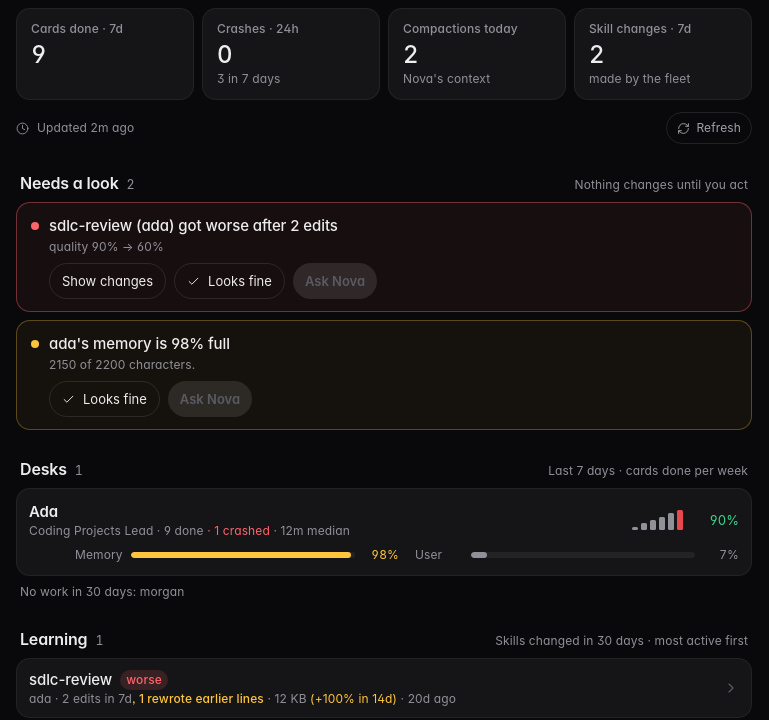
Test case: a skill that rewrites its own rules shows the evidence and the tidy-up the owner asked for
What coordinates should you click on to do the following:
click the button "sdlc-review"
I would click on:
 (384, 688)
Its box is [17,659,751,717].
(page scrolled)
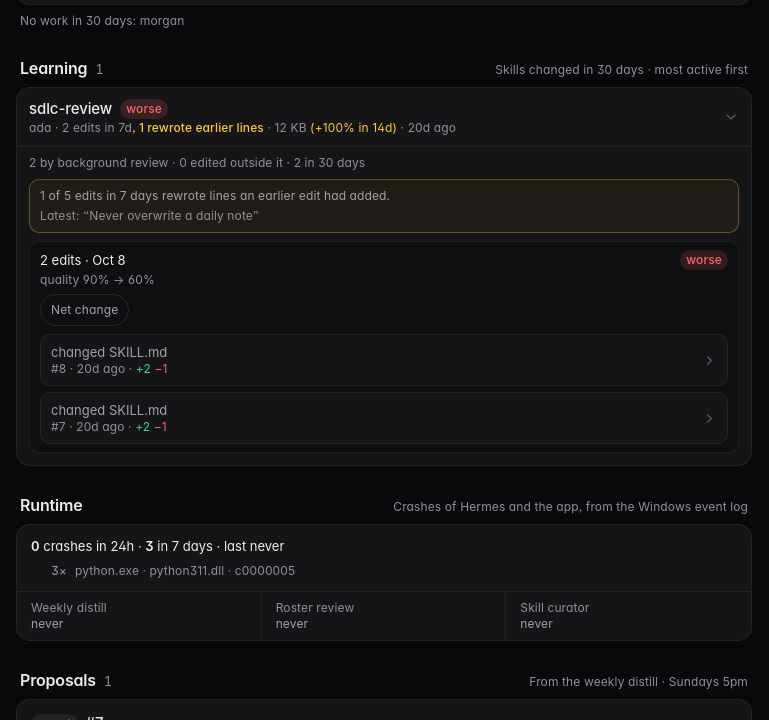
Now the text "1 of 5 edits in 7 days rewrote lines an earlier edit had added" is shown, box [40,188,390,203]
Now the text "Latest: “Never overwrite a daily note”" is shown, box [40,208,259,223]
What coordinates should you click on to do the following:
click the button "changed SKILL.md #8 · 20d ago · +2 −1"
I would click on:
 (109, 352)
Its box is [41,335,727,385].
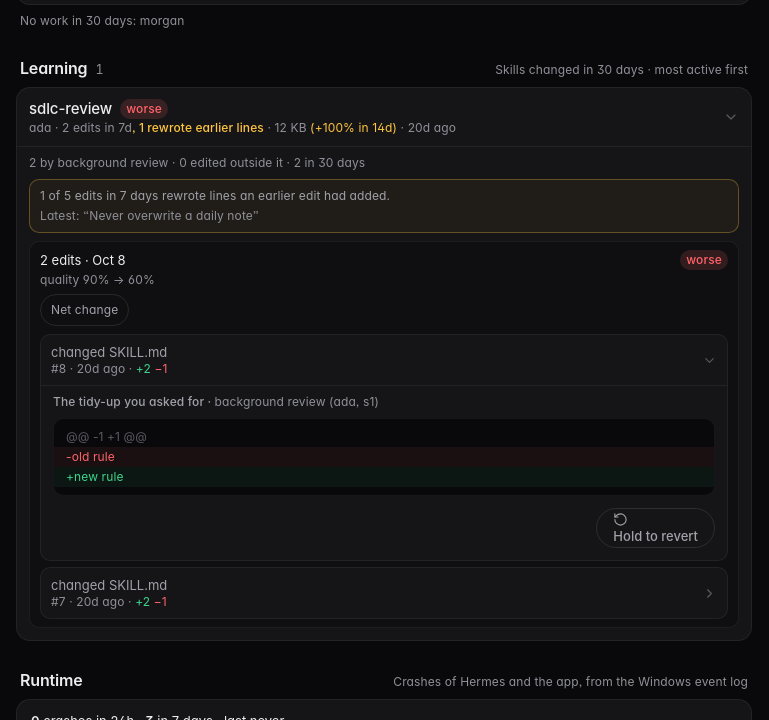
Now the text "The tidy-up you asked for ·" is shown, box [53,394,215,409]
